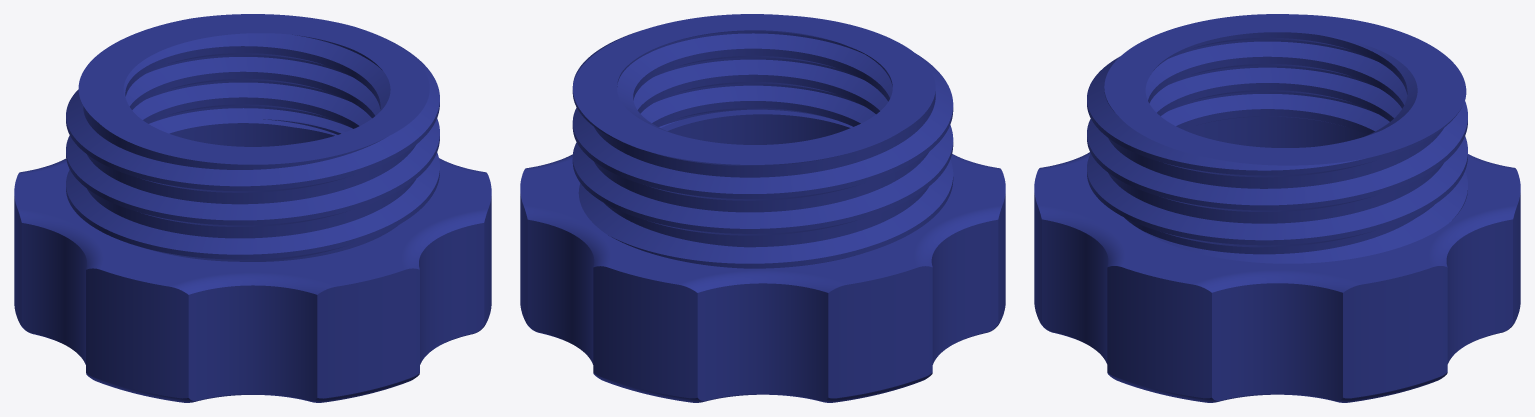
Rendered from ShakerV2 v63_ShakerV2 v63_Base_1_Body1_Base.obj.
3 renders of one model, left to right at view 1: azimuth 30°, elevation 25°; view 2: azimuth 150°, elevation 25°; view 3: azimuth 270°, elevation 25°, orthographic.
Visible parts, largest first — view 1: Body1; view 2: Body1; view 3: Body1.
Part boxes in pixels (x1,y1,x2,y2): Body1: [14, 14, 491, 402]; Body1: [520, 14, 1005, 402]; Body1: [1034, 14, 1520, 402].
Bounding box in the file's own units: 24.36 × 12.8 × 25.3.
